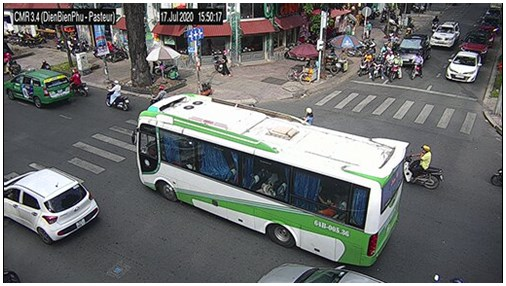xe_buyt: (135, 92, 408, 267)
xe_hoi: (5, 169, 99, 244), (6, 69, 71, 108), (446, 50, 482, 82), (399, 35, 430, 65), (430, 21, 460, 48), (463, 29, 487, 58)
xe_may: (405, 145, 444, 190), (106, 79, 129, 111), (70, 70, 89, 96), (371, 53, 383, 84), (390, 54, 403, 80), (359, 49, 371, 77), (411, 51, 423, 78), (301, 106, 314, 124), (9, 59, 21, 78), (386, 53, 394, 80), (40, 59, 52, 71)
